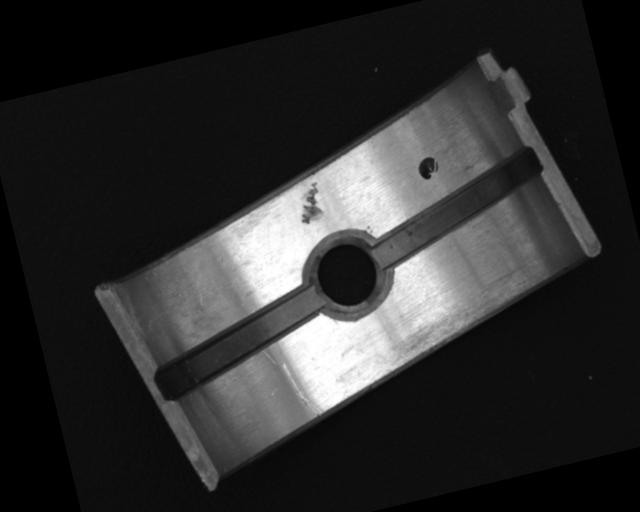blot: (415, 154, 440, 181)
bruise: (292, 180, 327, 226)
gap: (358, 144, 558, 272), (144, 284, 335, 402)
hole: (299, 230, 398, 324)
nick: (282, 357, 324, 423)
scratch: (370, 263, 549, 373)
